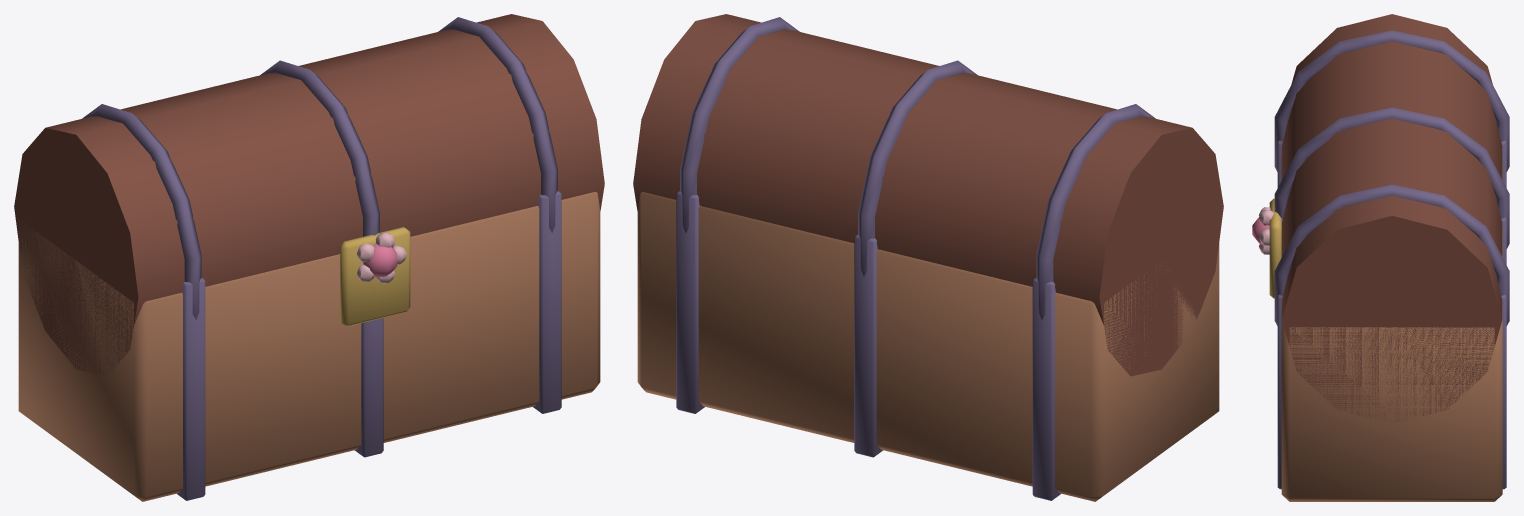
File: warbow_chest.glb
The picture shows the model from 3 angles, left to right: view 1: azimuth 30°, elevation 25°; view 2: azimuth 150°, elevation 25°; view 3: azimuth 270°, elevation 25°; orthographic projection. The views are drawn at different scales.
Parts seen in each view (by area): view 1: warbow_chest; view 2: warbow_chest; view 3: warbow_chest.
Part boxes in pixels (x1,y1,x2,y2): warbow_chest: (14, 14, 604, 501); warbow_chest: (633, 14, 1223, 501); warbow_chest: (1252, 14, 1509, 501).
Size of what is drawn, in the model's own units: 1.15 by 0.8 by 0.62.
